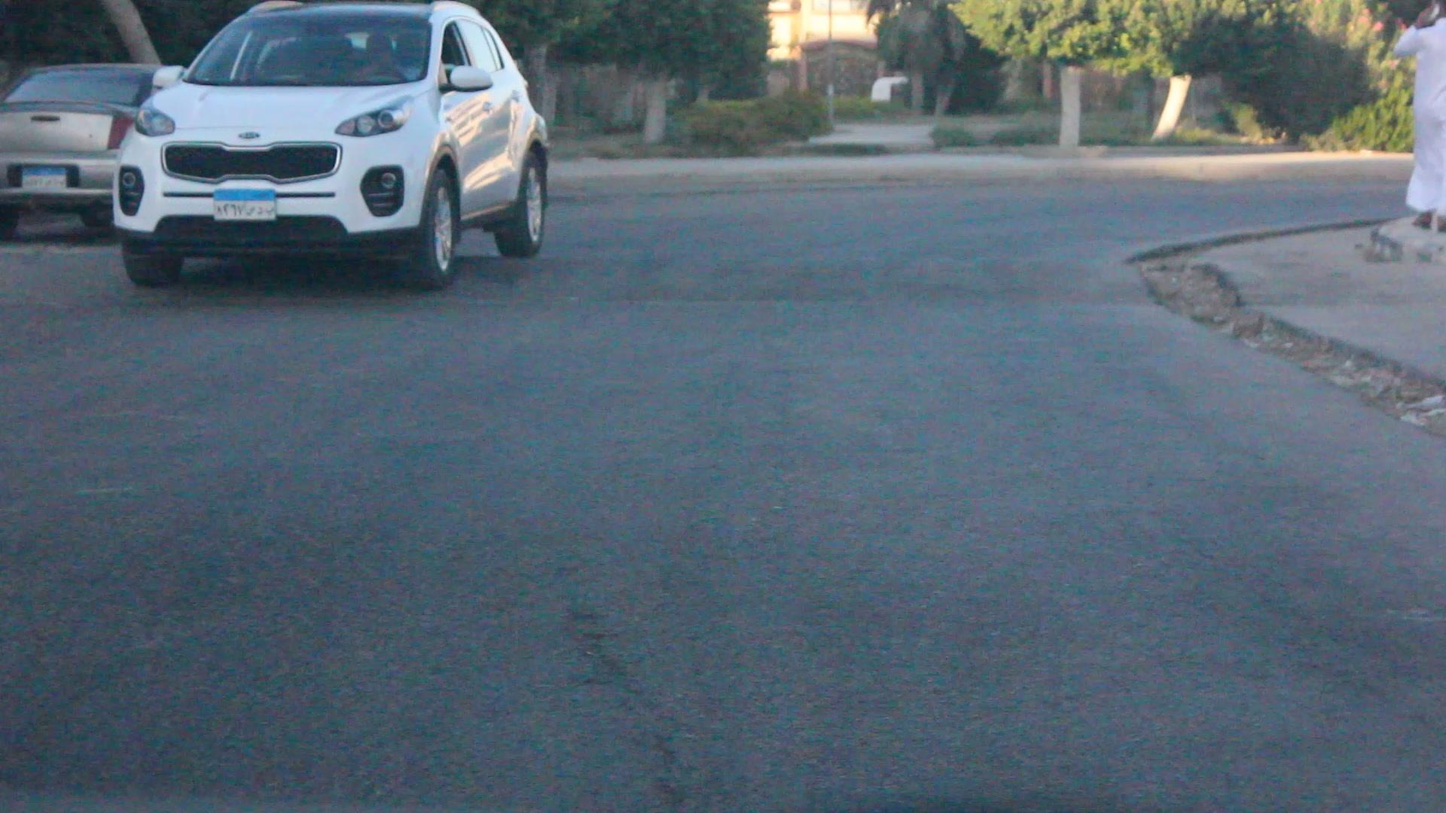Bump: (0, 247, 1160, 297)
